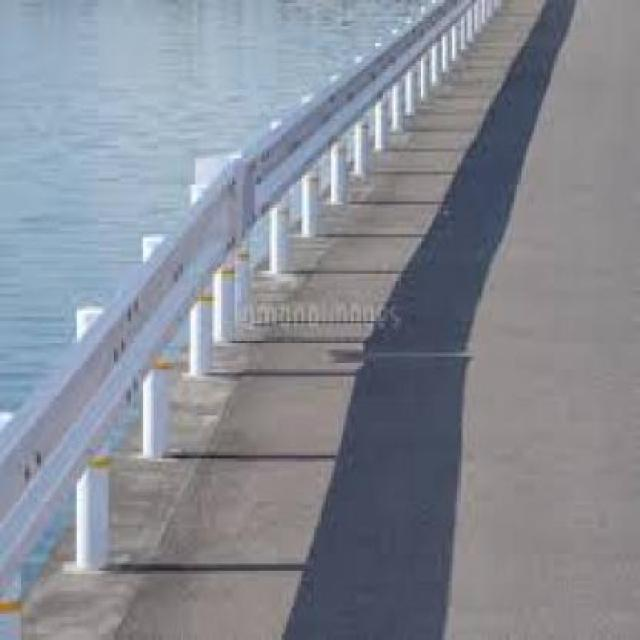Guard rail: (1, 0, 504, 637)
